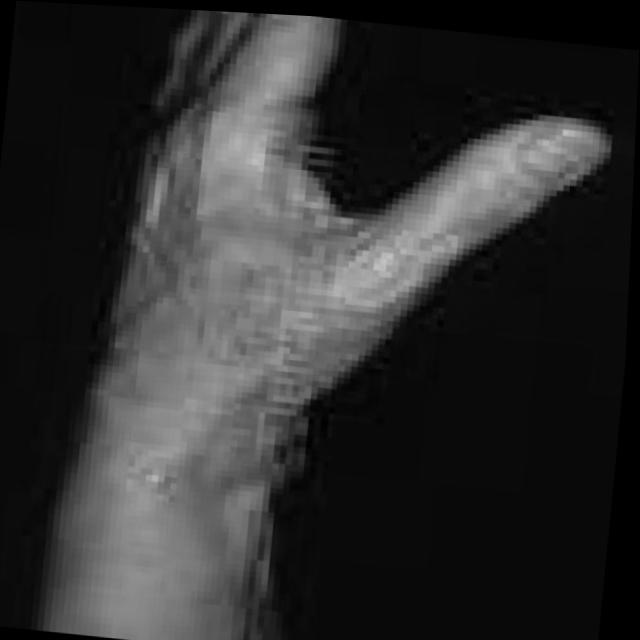Melasma: (127, 413, 204, 505), (237, 272, 282, 372)
